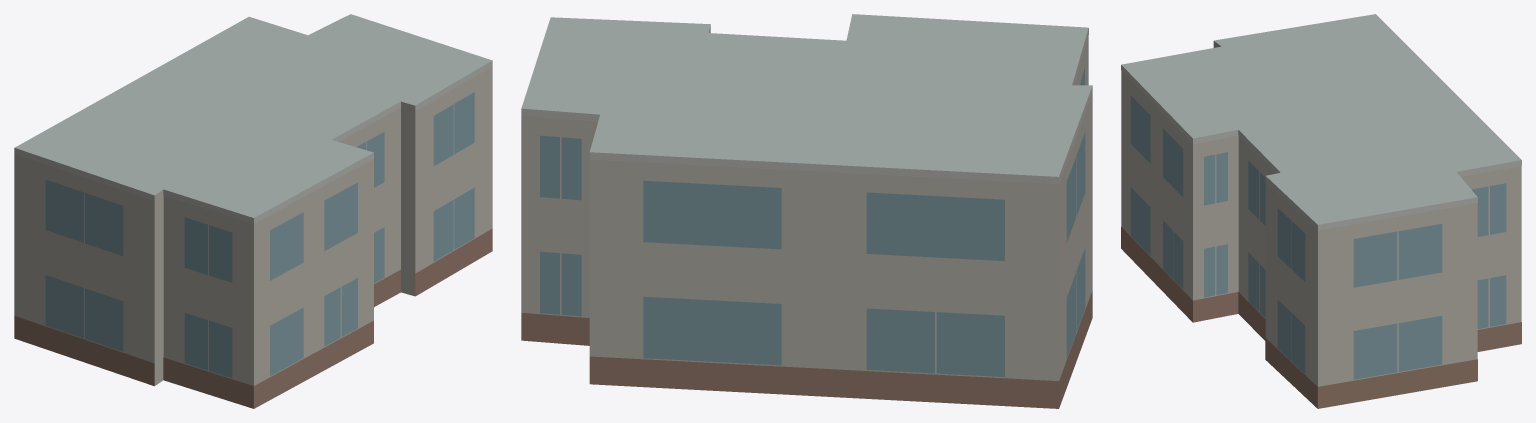
File: survey-upis-32848101.glb
3 renders of one model, left to right at view 1: azimuth 30°, elevation 25°; view 2: azimuth 150°, elevation 25°; view 3: azimuth 270°, elevation 25°, orthographic. The views are drawn at different scales.
Parts seen in each view (by area): view 1: survey-upis-32848101.tmp; view 2: survey-upis-32848101.tmp; view 3: survey-upis-32848101.tmp.
Boxes of the visible parts, left/top/right/bottom form: survey-upis-32848101.tmp: left=14, top=14, right=492, bottom=408; survey-upis-32848101.tmp: left=521, top=14, right=1092, bottom=408; survey-upis-32848101.tmp: left=1121, top=14, right=1521, bottom=408.
Size of the model in its own units: 19.23 by 7.82 by 15.44.
